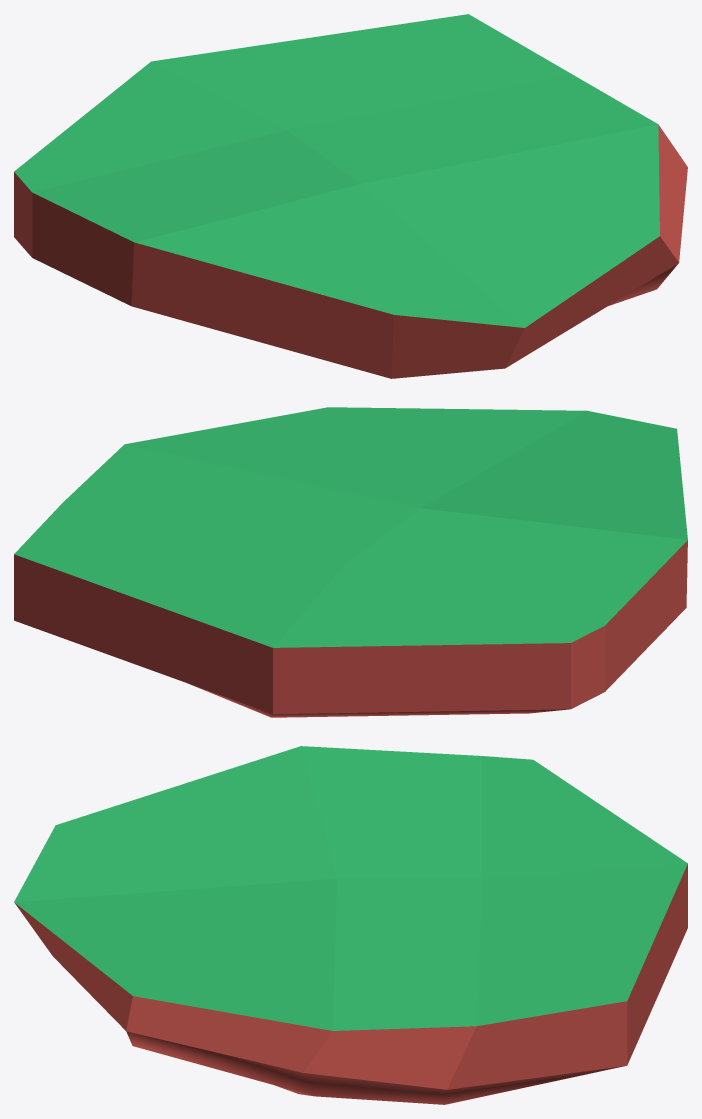
Rendered from lacune.fbx_Platform002.fbx.
3 renders of one model, top to bottom at view 1: azimuth 30°, elevation 25°; view 2: azimuth 150°, elevation 25°; view 3: azimuth 270°, elevation 25°, orthographic. The views are drawn at different scales.
Parts seen in each view (by area): view 1: Platform002; view 2: Platform002; view 3: Platform002.
Part boxes in pixels (x1,y1,x2,y2): Platform002: (14, 14, 687, 378); Platform002: (14, 407, 687, 717); Platform002: (14, 746, 687, 1104).
Size of what is drawn, in the model's own units: 1982 by 426 by 2079.
